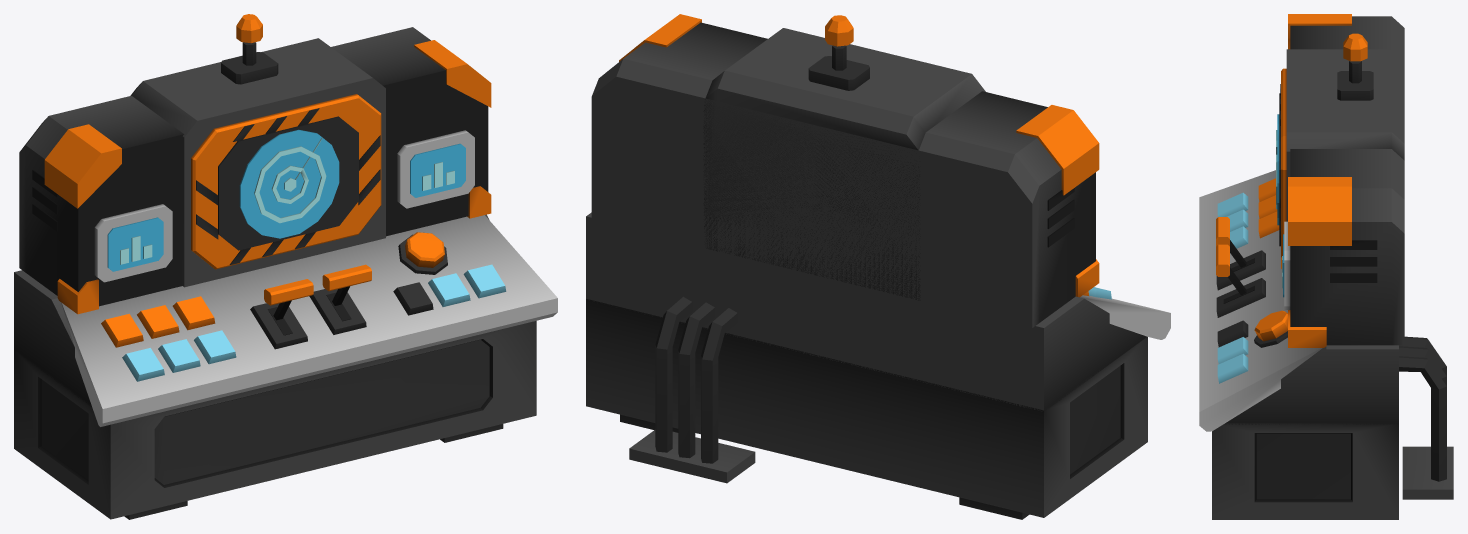
File: console.glb
The picture shows the model from 3 angles, left to right: view 1: azimuth 30°, elevation 25°; view 2: azimuth 150°, elevation 25°; view 3: azimuth 270°, elevation 25°; orthographic projection. The views are drawn at different scales.
Visible parts, largest first — view 1: console; view 2: console; view 3: console.
Part boxes in pixels (bbox=[...]): console: bbox=[14, 14, 557, 519]; console: bbox=[586, 14, 1170, 519]; console: bbox=[1199, 14, 1453, 519].
Size of the model in its own units: 1.4 by 1.2 by 0.7.
Materials: 1 (1 with a texture image).
